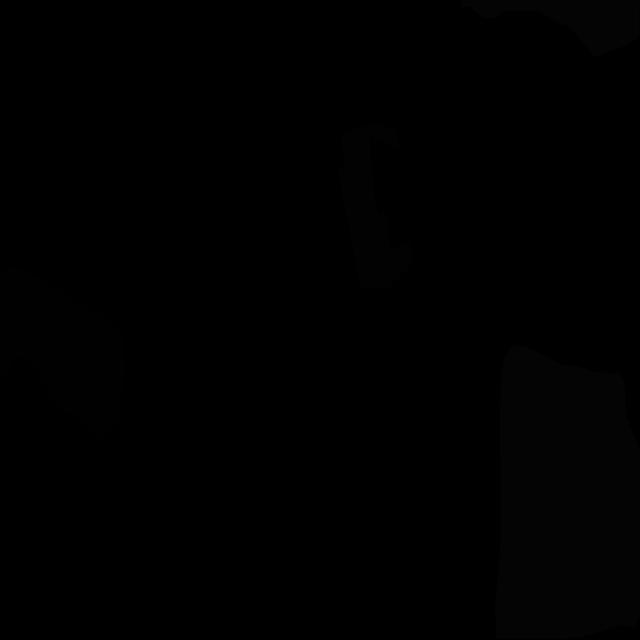cardboard: (338, 124, 413, 288)
rigid_plastic: (0, 266, 125, 440)
soft_plastic: (495, 344, 640, 639), (459, 0, 640, 58)
